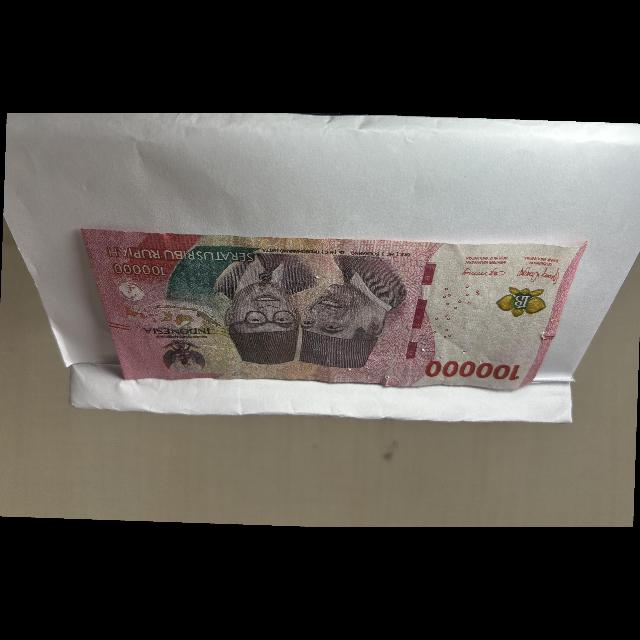Palsu-100k: (73, 224, 591, 398)
Tinta-Palsu-100k: (492, 285, 553, 323)
